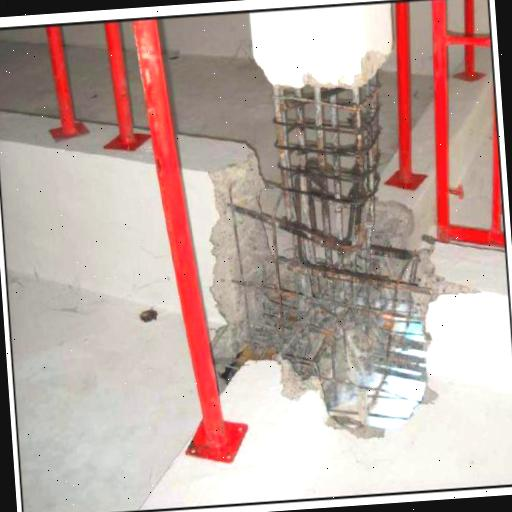spalling: (260, 62, 398, 378)
